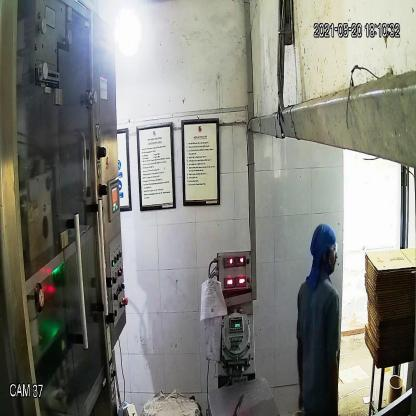goggles: (320, 241, 340, 258)
